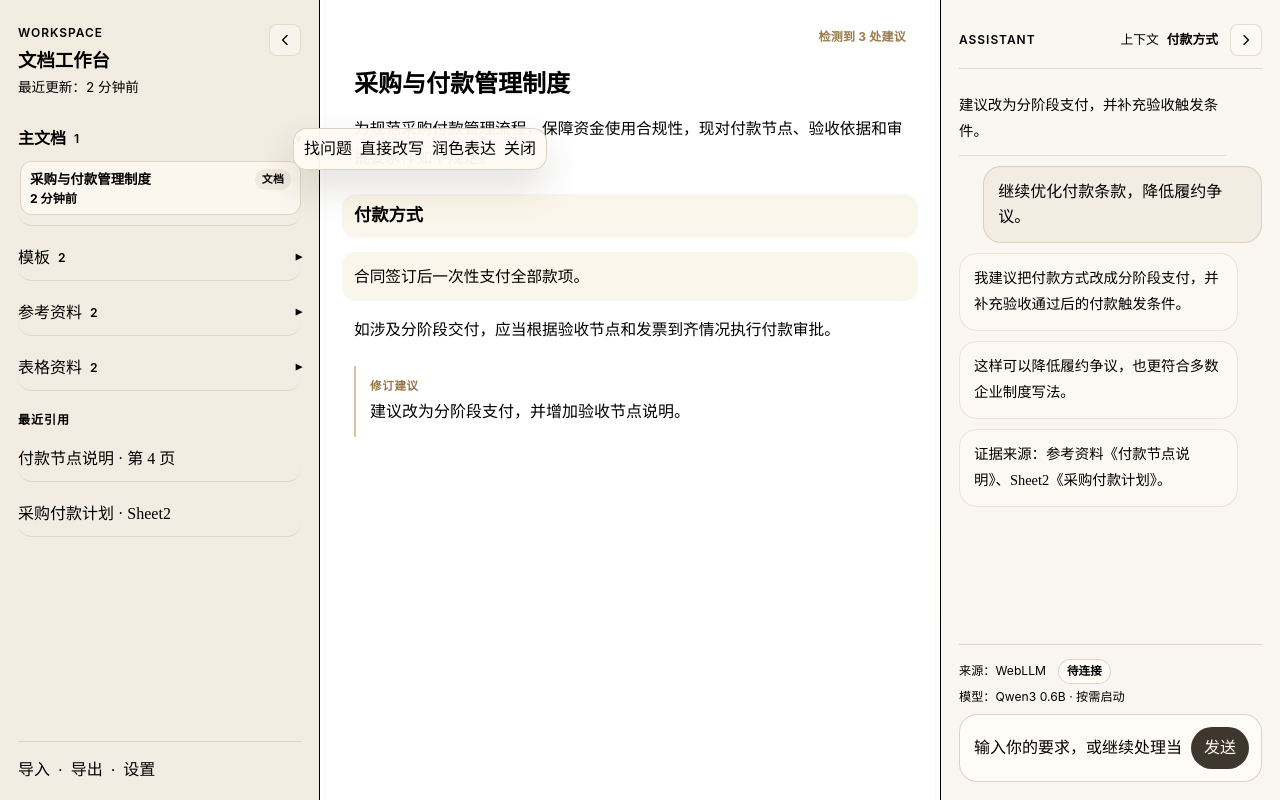
Test: workspace shell › shows an action popover after selecting text in the markdown or text document
Expected: the element with test id "document-selection-popover" is shown, [293,128,547,170]
Expected: the button "找问题" is shown, [304,137,352,161]
Click the button "润色表达" at coordinates (464, 149), box [432,137,496,161]
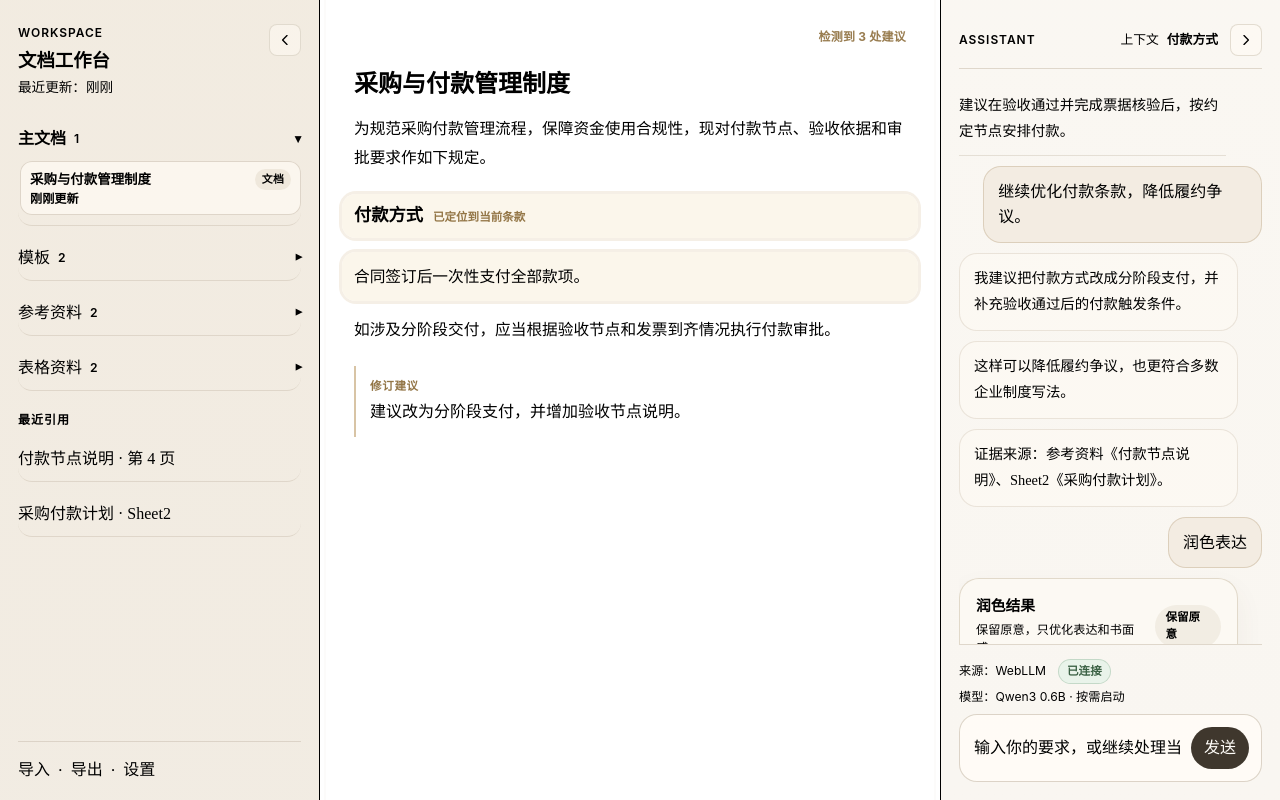
Result: the text "润色结果" is shown at [976,598,1035,614]
Result: the text "保留原意" is shown at [1155,605,1221,644]
Result: the text "建议在验收通过并完成票据核验后，按约定节点安排付款。" is shown at [959,93,1226,145]
